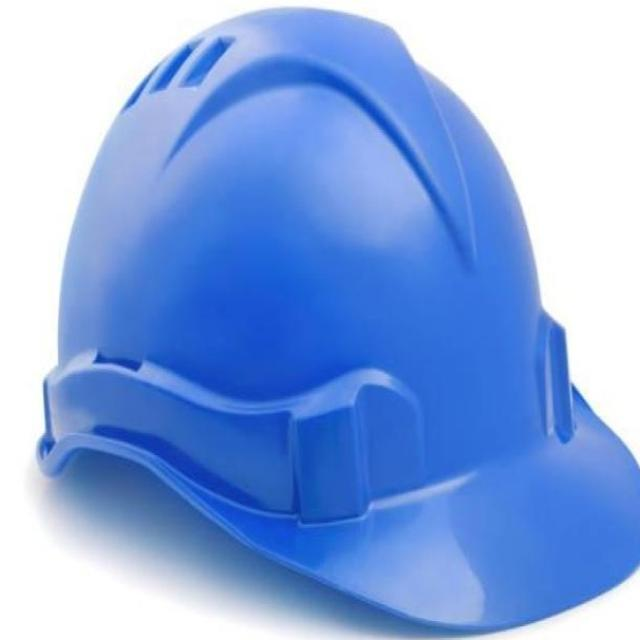helmet: (34, 4, 640, 635)
